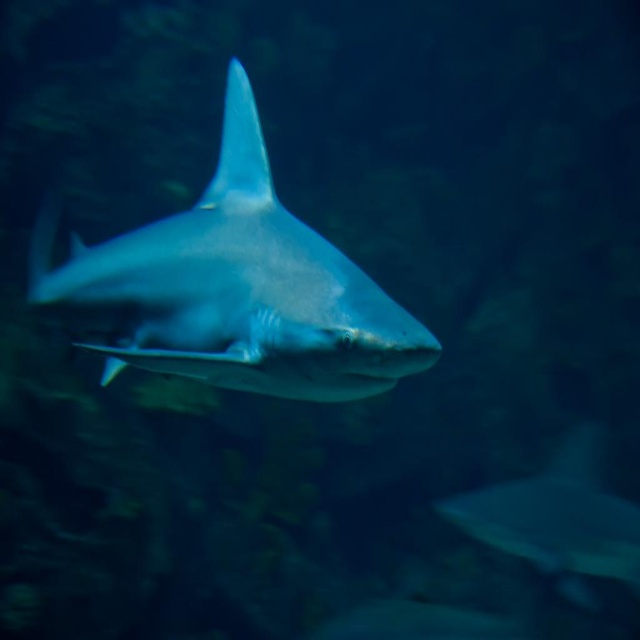Shark: (27, 57, 442, 403), (429, 420, 640, 613)
